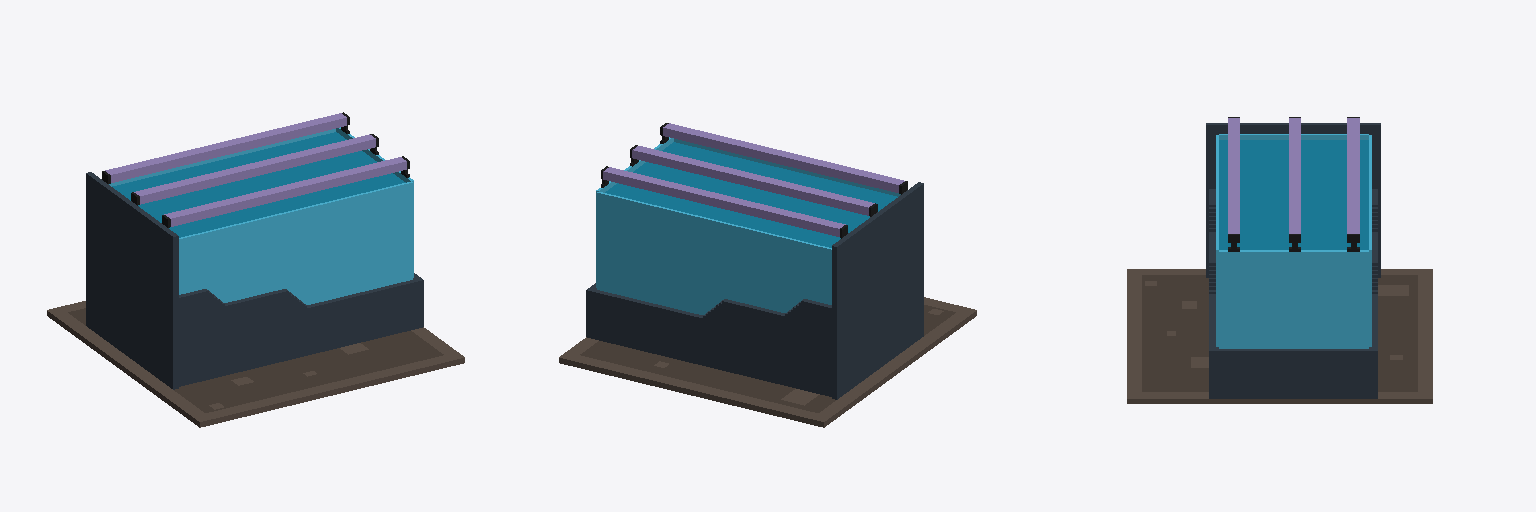
3 renders of one model, left to right at view 1: azimuth 30°, elevation 25°; view 2: azimuth 150°, elevation 25°; view 3: azimuth 270°, elevation 25°, orthographic.
Parts seen in each view (by area): view 1: object 1; view 2: object 1; view 3: object 1.
Part boxes in pixels (bbox=[...]): object 1: bbox=[47, 112, 464, 427]; object 1: bbox=[559, 123, 976, 427]; object 1: bbox=[1127, 117, 1432, 403].
Size of the model in its own units: 10 by 6 by 10.
1 materials, 1 textured.